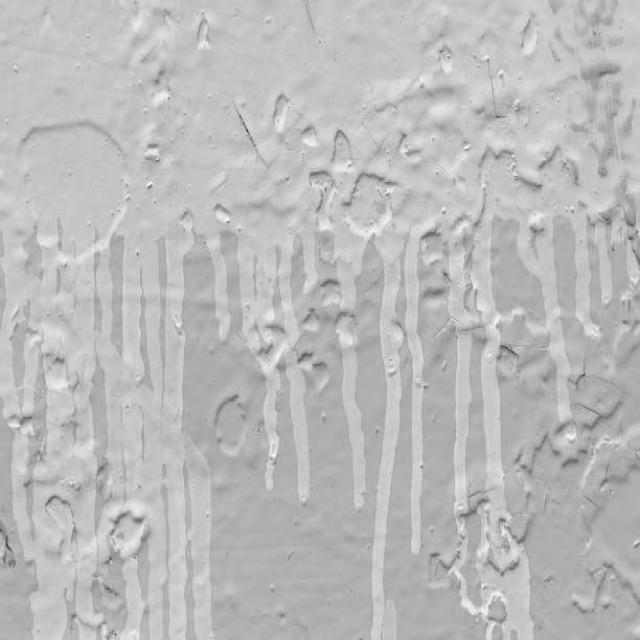paint drips: (1, 197, 231, 640), (370, 212, 512, 640), (233, 198, 368, 517), (512, 204, 640, 458)
